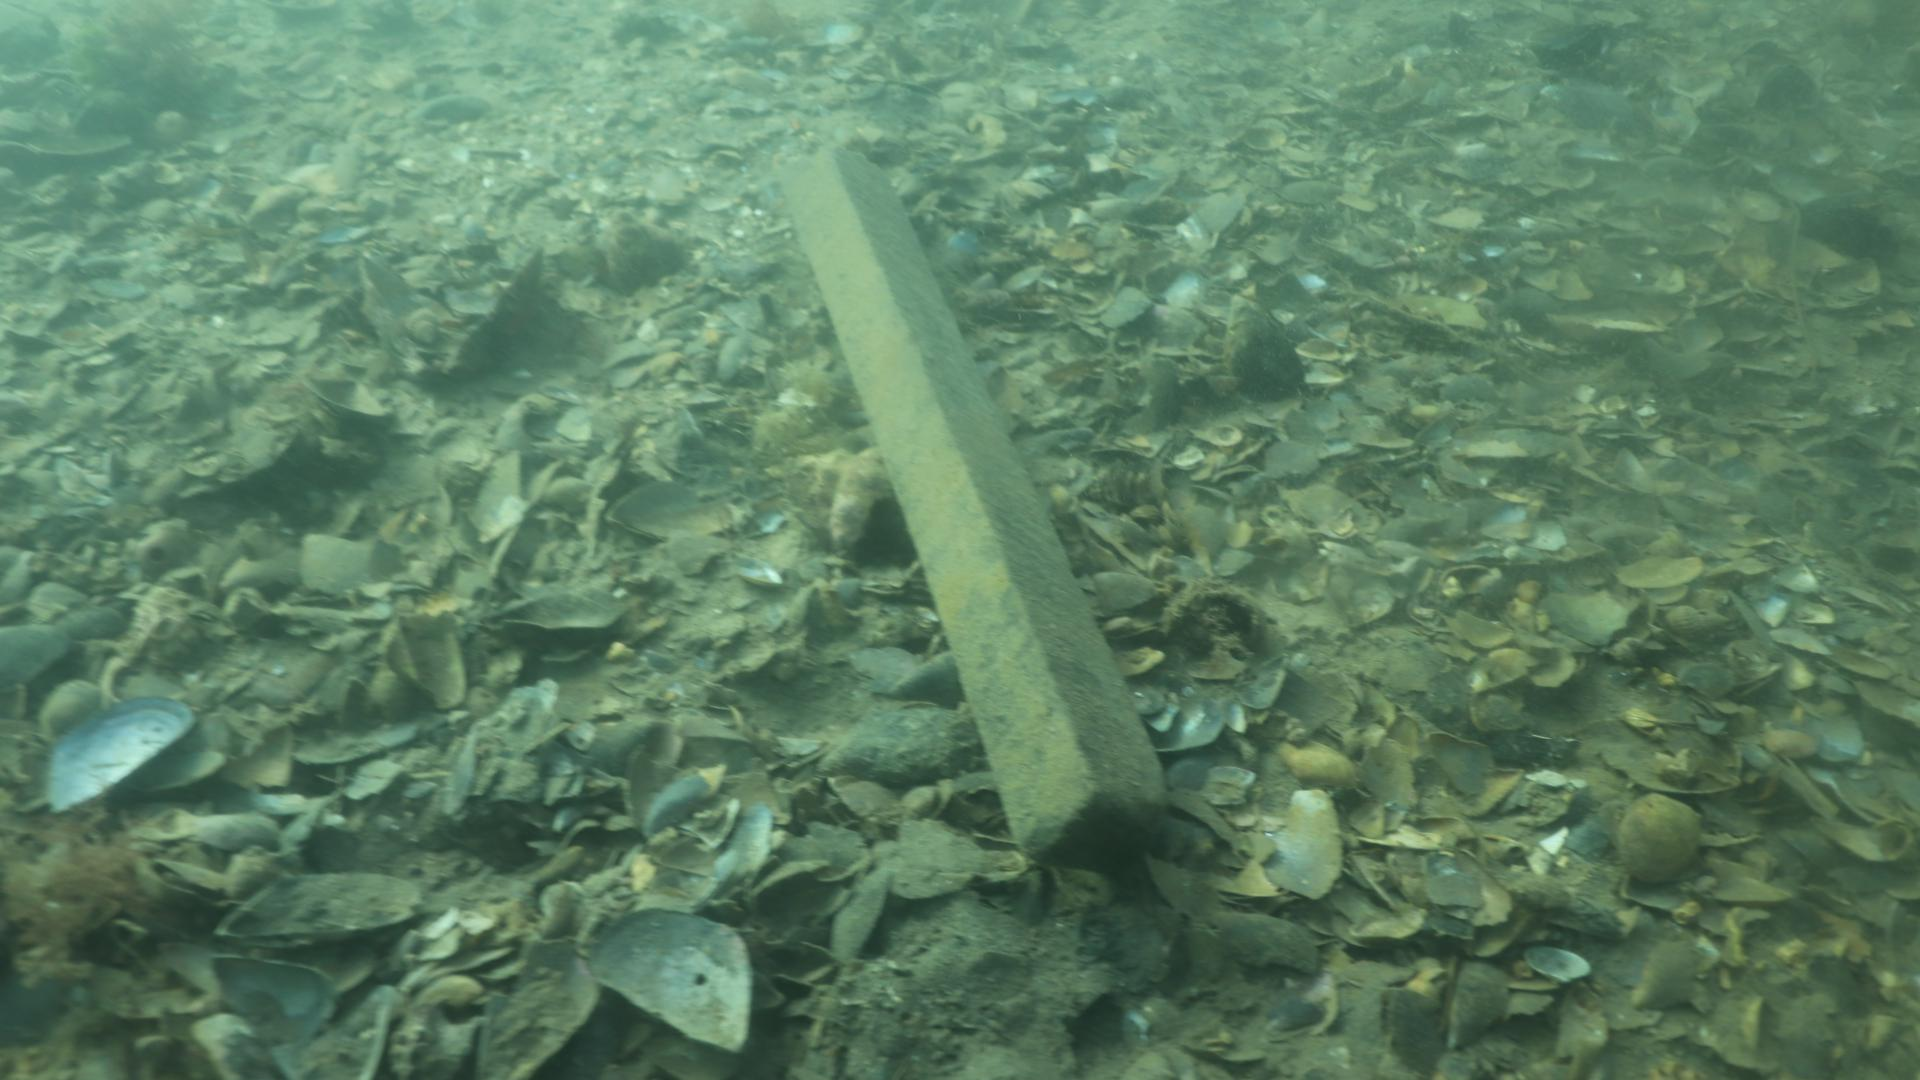wood: (774, 141, 1171, 873)
